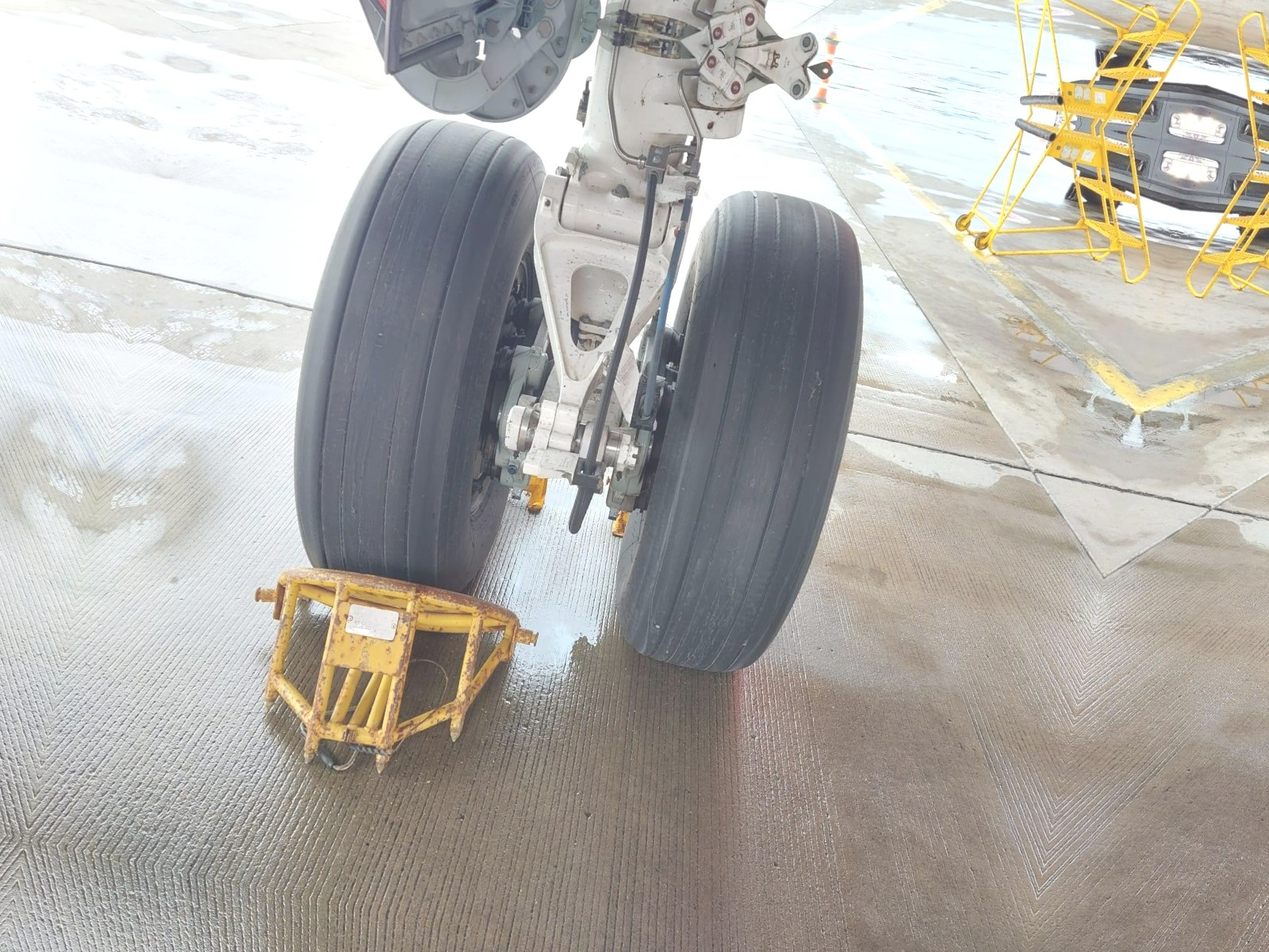chock: (223, 546, 548, 808)
wheel: (596, 171, 899, 701), (264, 99, 578, 596)
